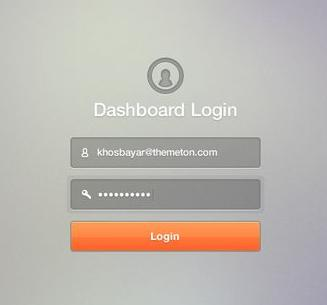button: (70, 221, 262, 252)
field: (70, 178, 263, 211), (69, 137, 262, 169)
